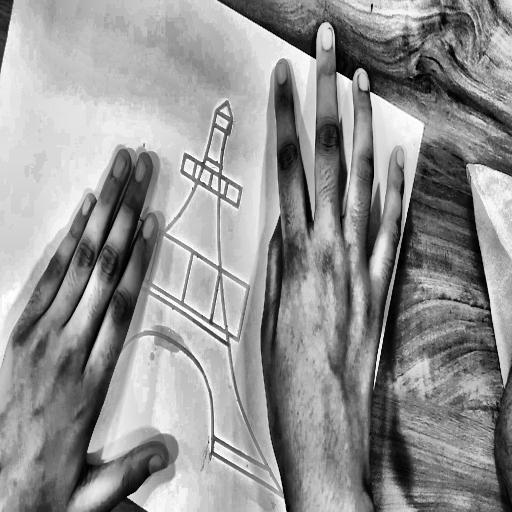eiffel-tower: (6, 16, 392, 507)
top_right: (421, 119, 427, 129)
